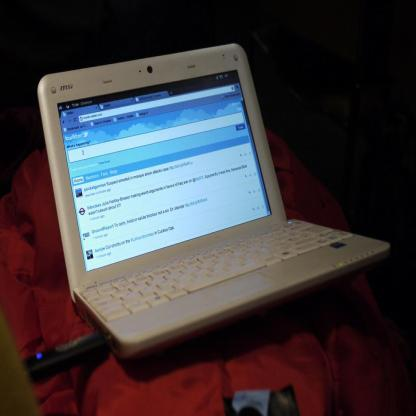board: (38, 43, 390, 360)
